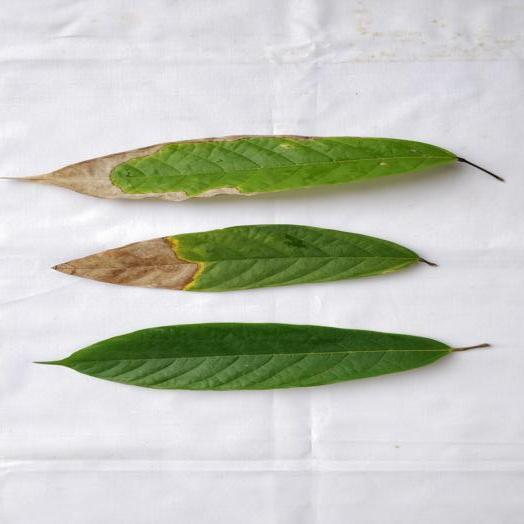Healthy Leaf: (38, 323, 470, 389)
Potassium: (19, 135, 464, 200), (55, 224, 425, 291)
